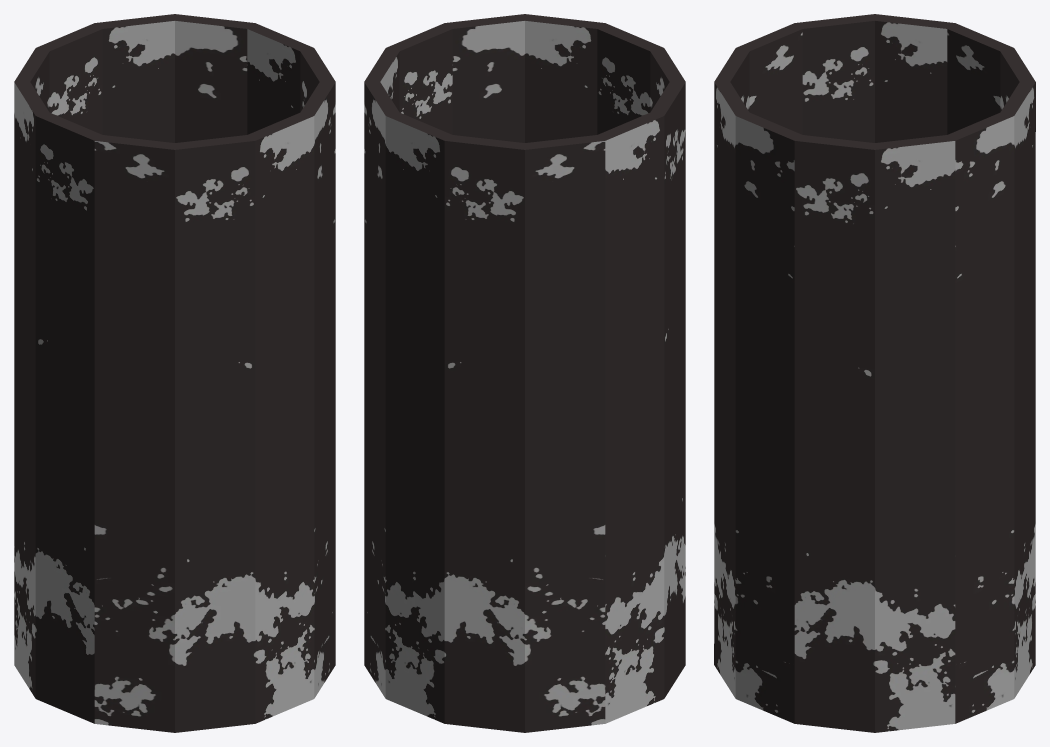
File: portal.fbx
3 renders of one model, left to right at view 1: azimuth 30°, elevation 25°; view 2: azimuth 150°, elevation 25°; view 3: azimuth 270°, elevation 25°, orthographic.
Visible parts, largest first — view 1: Portal; view 2: Portal; view 3: Portal.
Part boxes in pixels (left/top/right/bottom): Portal: left=14, top=14, right=335, bottom=732; Portal: left=364, top=14, right=685, bottom=732; Portal: left=714, top=14, right=1035, bottom=732.
Bounding box in the file's own units: 100 × 200 × 100.
